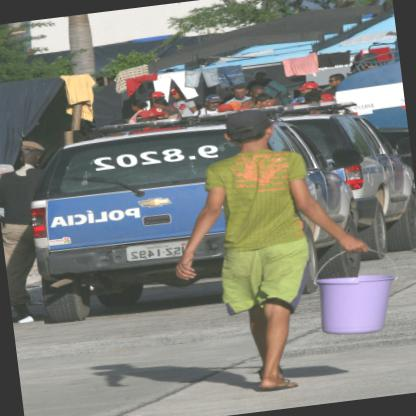Car: (20, 98, 360, 326), (286, 97, 415, 263)
